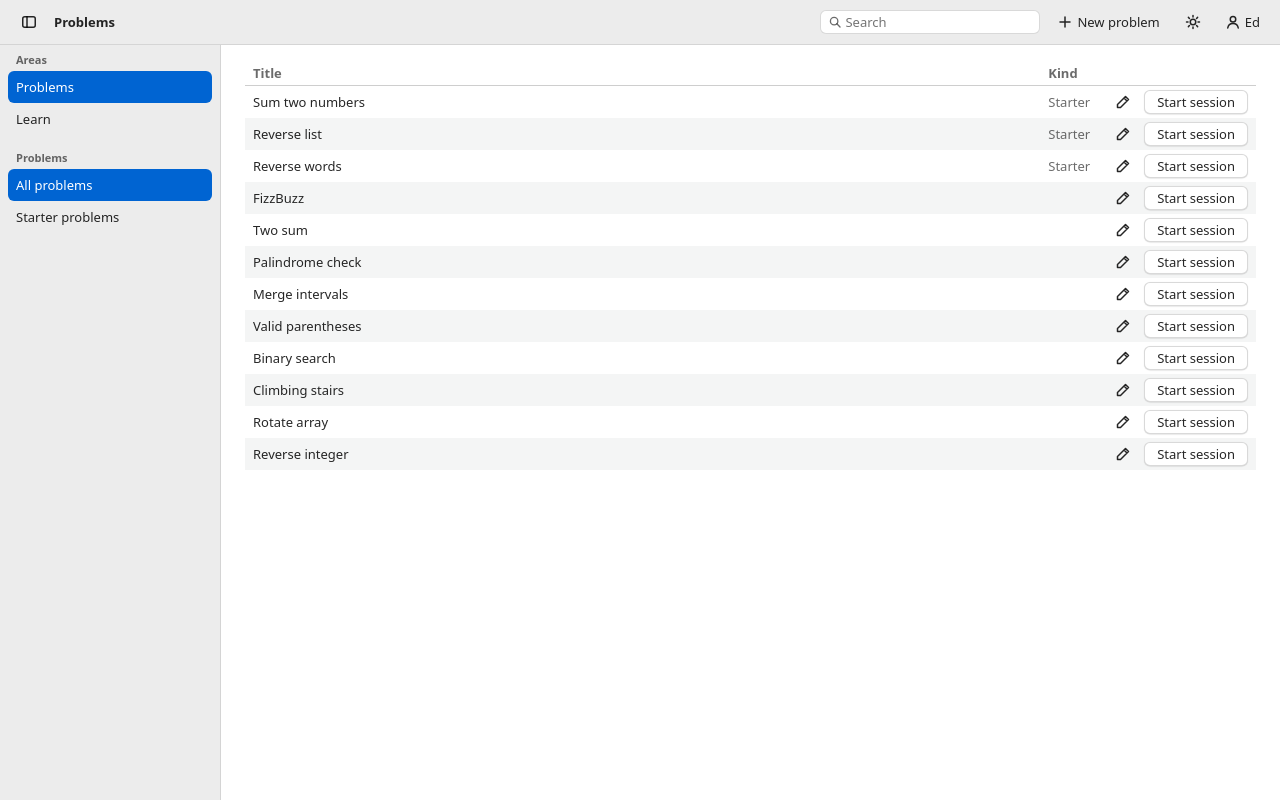
Test: ProblemsWindow › opens New problem as a sheet over the list without navigating
Expected: the cell "Rotate array" is shown, [245, 406, 1040, 438]
Step 1. Click the button "New problem" → x=1109, y=22, box [1048, 10, 1169, 34]
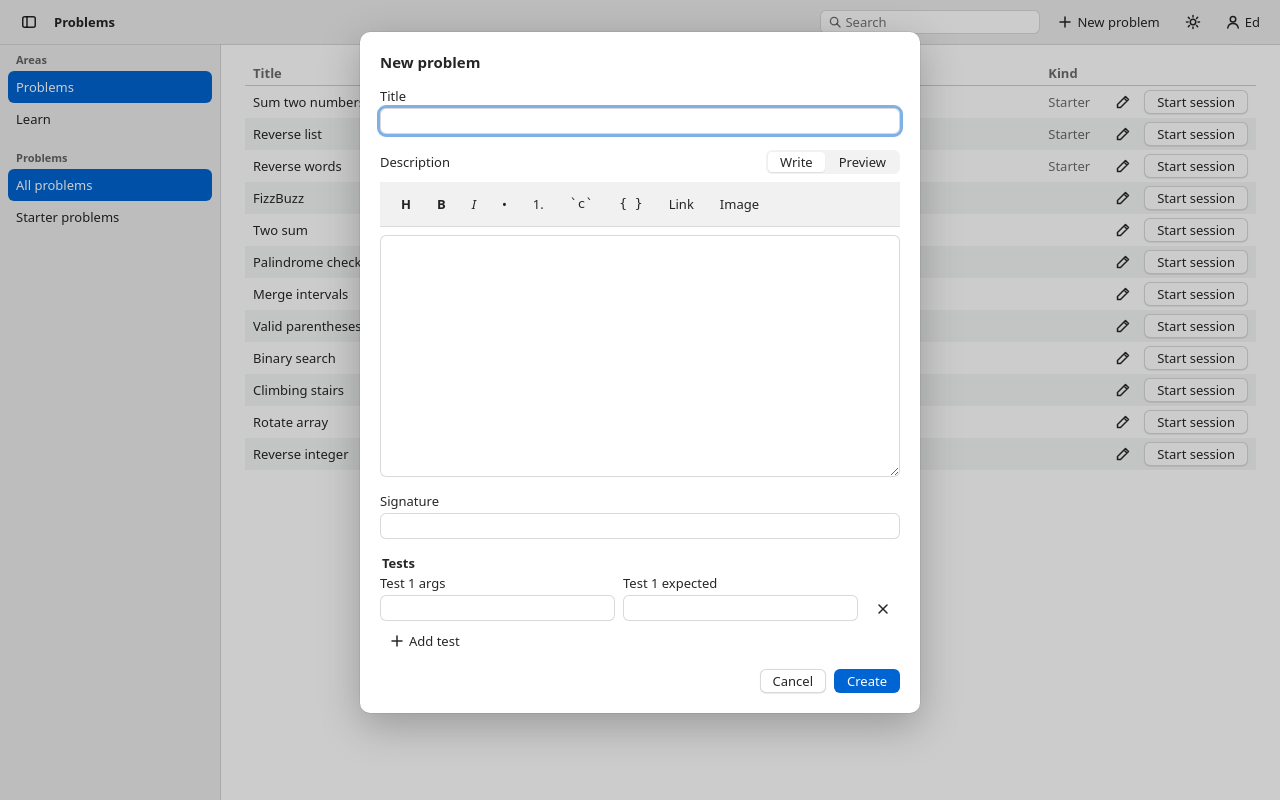
Expected: the dialog "New problem" is shown, [360, 32, 920, 713]
